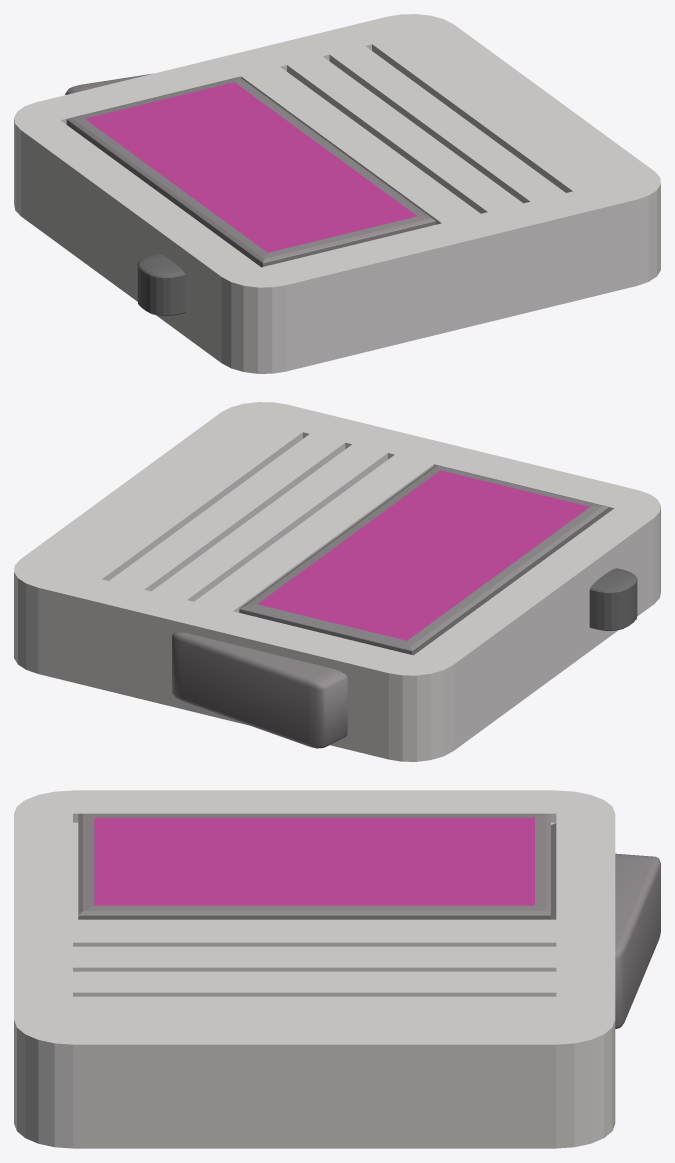
The model's file is Talkie.fbx.
3 views of the same model, one above another, from view 1: azimuth 30°, elevation 25°; view 2: azimuth 150°, elevation 25°; view 3: azimuth 270°, elevation 25° (orthographic). The views are drawn at different scales.
Parts seen in each view (by area): view 1: talkie; view 2: talkie, button; view 3: talkie, button.
Boxes of the visible parts, x1,y1,x2,y2 form: talkie: [14, 14, 660, 373]; talkie: [14, 402, 660, 761]; button: [172, 632, 347, 748]; talkie: [14, 790, 615, 1148]; button: [615, 853, 660, 1028].
Size of the model in its own units: 213 by 40 by 215.
